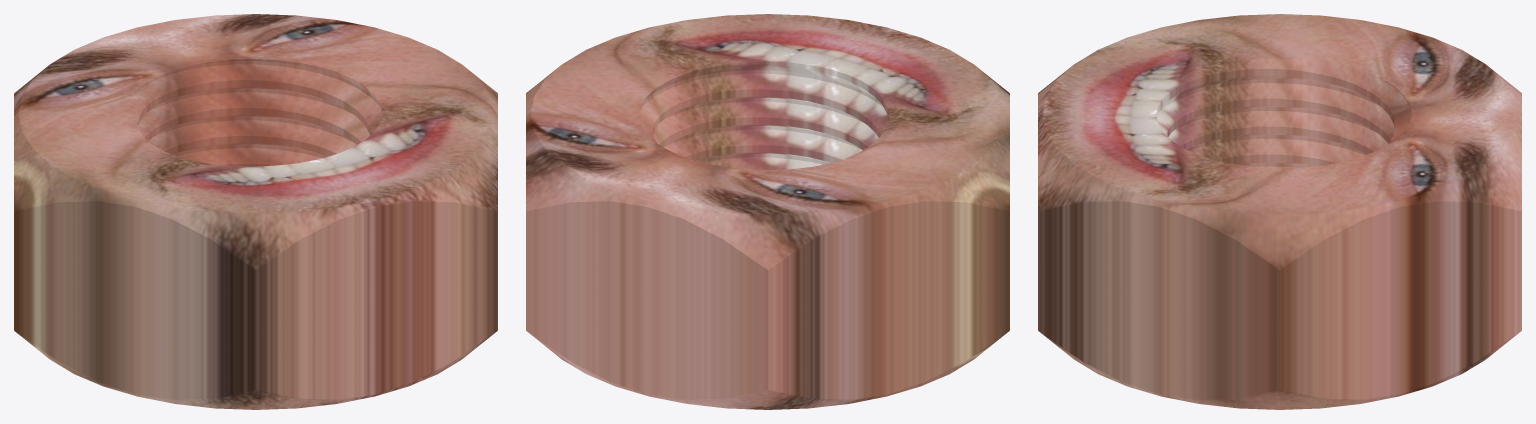
The model's file is kroeger-hex-nut.glb.
The picture shows the model from 3 angles, left to right: view 1: azimuth 30°, elevation 25°; view 2: azimuth 150°, elevation 25°; view 3: azimuth 270°, elevation 25°; orthographic projection.
Parts seen in each view (by area): view 1: Nut; view 2: Nut; view 3: Nut.
Boxes of the visible parts, box(x1,y1,x2,y2) form: Nut: box(14, 14, 497, 409); Nut: box(526, 14, 1009, 409); Nut: box(1038, 14, 1521, 409).
Bounding box in the file's own units: 0.0127 × 0.0049 × 0.011.
1 material, 1 textured.
